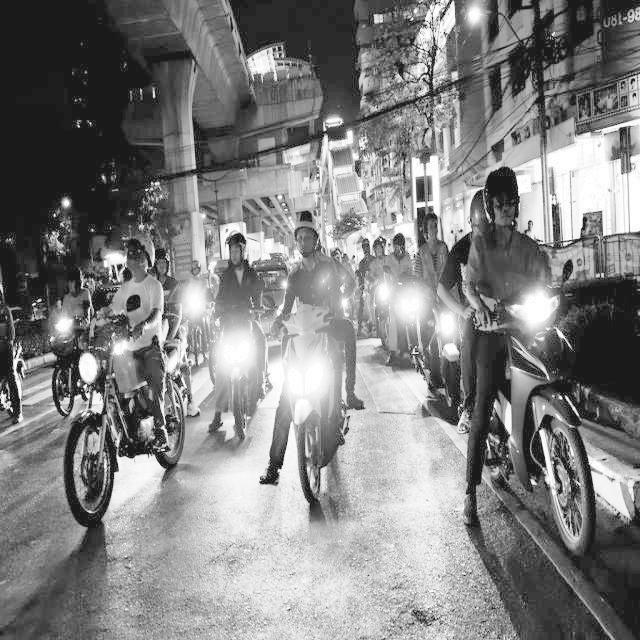Motorcycle: (428, 319, 600, 572), (56, 332, 197, 526), (241, 324, 383, 514), (0, 312, 89, 460), (200, 312, 284, 446), (367, 278, 461, 391)
